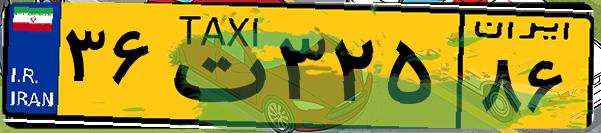2: (330, 28, 385, 110)
3: (270, 28, 330, 110), (57, 26, 110, 100)
5: (385, 28, 445, 110)
6: (525, 38, 570, 115), (110, 28, 158, 98)
8: (475, 38, 525, 113)
ت: (158, 12, 270, 120)
